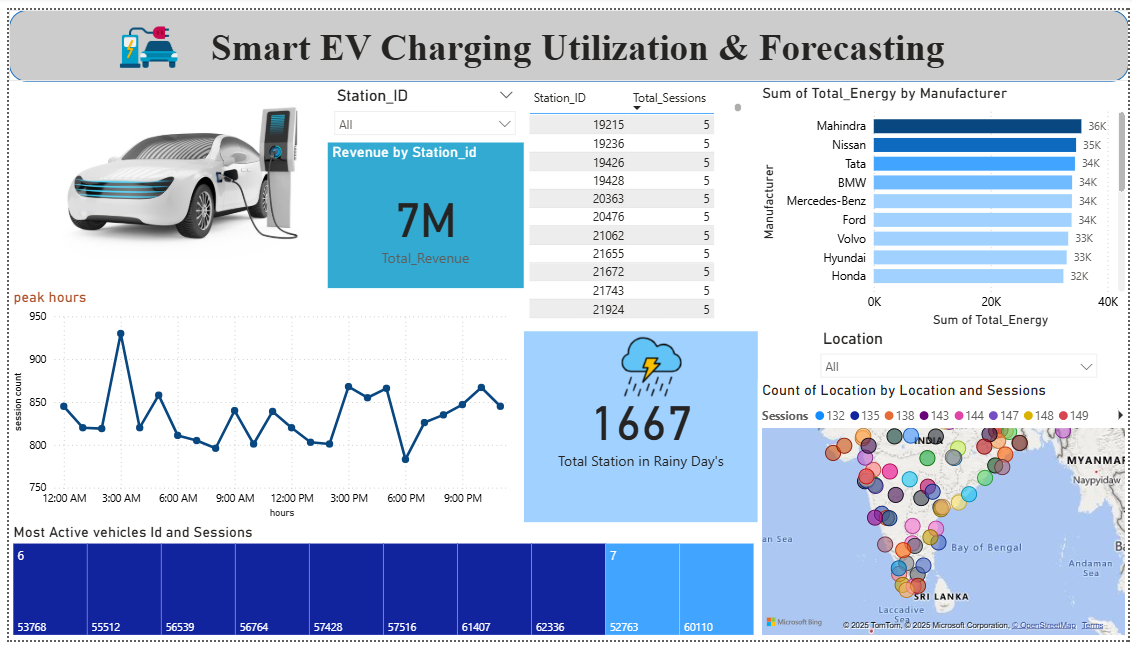

The page's visual inventory and layout, read from the dashboard file:
{"tool":"powerbi","page":{"name":"Page 1","canvas":[1280,720],"ordinal":0},"visuals":[{"type":"shape","box":[0,0,1280,82],"z":0},{"type":"textbox","box":[225,12.3,860.4,61.7],"z":1000},{"type":"lineChart","title":"peak hours","fields":{"Category":["peak_hours.hours"],"Y":["Sum(peak_hours.sessions_count)"]},"box":[0,317.5,588.8,268.8],"z":2000},{"type":"card","fields":{"Values":["Sum(Charging Sessions During Rain.Rainy_Sessions)"]},"box":[588.8,367.5,267.5,218.8],"z":5000},{"type":"slicer","fields":{"Values":["Revenue per Station.Station_ID"]},"box":[361.2,82.5,227.5,80],"z":6000},{"type":"slicer","fields":{"Values":["Station Utilization by Location.Location"]},"box":[916.7,360,336.7,68.9],"z":8000},{"type":"clusteredBarChart","fields":{"Category":["Top Manufacturers by Energy Consumption.Manufacturer"],"Y":["Sum(Top Manufacturers by Energy Consumption.Total_Energy)"]},"box":[855,85,425,282.5],"z":9000},{"type":"card","title":"Revenue by Station_id","fields":{"Values":["Sum(Revenue per Station.Total_Revenue)"]},"box":[365,151.2,223.8,166.2],"z":10000},{"type":"map","fields":{"Series":["Station Utilization by Location.Sessions"],"Category":["Station Utilization by Location.Location"],"Size":["CountNonNull(Station Utilization by Location.Location)"]},"box":[855,423.8,425,295],"z":10001},{"type":"tableEx","fields":{"Values":["Sessions per Station.Station_ID","Sessions per Station.Total_Sessions"]},"box":[588.8,85,253.8,275],"z":10002},{"type":"treemap","title":"Most Active vehicles Id and Sessions","fields":{"Values":["CountNonNull(most_active_vehicles1.Sessions)"],"Group":["most_active_vehicles1.Sessions"],"Details":["most_active_vehicles1.Vehicle_ID"]},"box":[0,586.2,856.2,133.8],"z":10003},{"type":"image","box":[110,0,98.8,85],"z":10004},{"type":"image","box":[0,82.5,406.2,235],"z":10005},{"type":"image","box":[667.5,368.8,135,78.8],"z":10006}]}

Visuals, with their boxes in screenshot pixels (x1, y1, x2, y2), scaled from the page's 1280x720 canvas onto the 1132x652 screenshot:
shape: box(0, 0, 1131, 74)
textbox: box(199, 11, 960, 67)
"peak hours" lineChart: box(0, 288, 521, 531)
card - Sum(Charging Sessions During Rain.Rainy_Sessions): box(521, 333, 757, 531)
slicer - Revenue per Station.Station_ID: box(319, 75, 521, 147)
slicer - Station Utilization by Location.Location: box(811, 326, 1108, 388)
clusteredBarChart - Top Manufacturers by Energy Consumption.Manufacturer x Sum(Top Manufacturers by Energy Consumption.Total_Energy): box(756, 77, 1131, 333)
"Revenue by Station_id" card: box(323, 137, 521, 287)
map - Station Utilization by Location.Sessions x Station Utilization by Location.Location: box(756, 384, 1131, 651)
tableEx - Sessions per Station.Station_ID x Sessions per Station.Total_Sessions: box(521, 77, 745, 326)
"Most Active vehicles Id and Sessions" treemap: box(0, 531, 757, 651)
image: box(97, 0, 185, 77)
image: box(0, 75, 359, 288)
image: box(590, 334, 710, 405)
